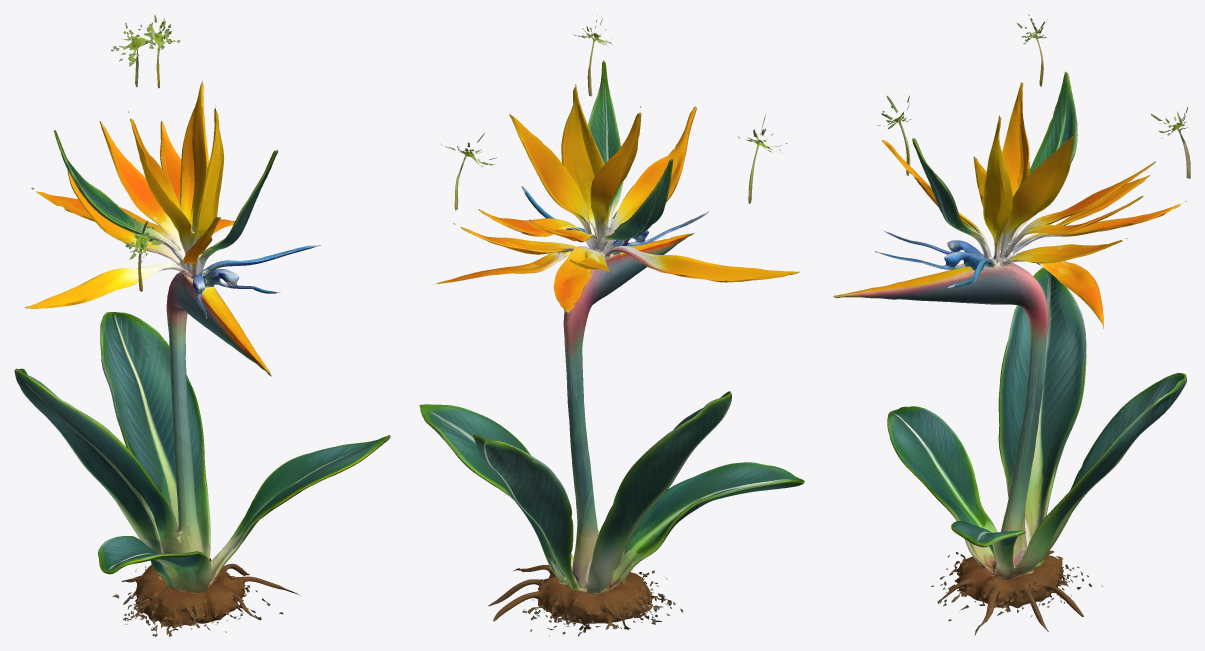
File: raw_meshy_model.glb
3 views of the same model, side by side, from view 1: azimuth 30°, elevation 25°; view 2: azimuth 150°, elevation 25°; view 3: azimuth 270°, elevation 25° (orthographic). The views are drawn at different scales.
Size of the model in its own units: 1.22 by 1.87 by 1.06.
Materials: 1 (1 with a texture image).
